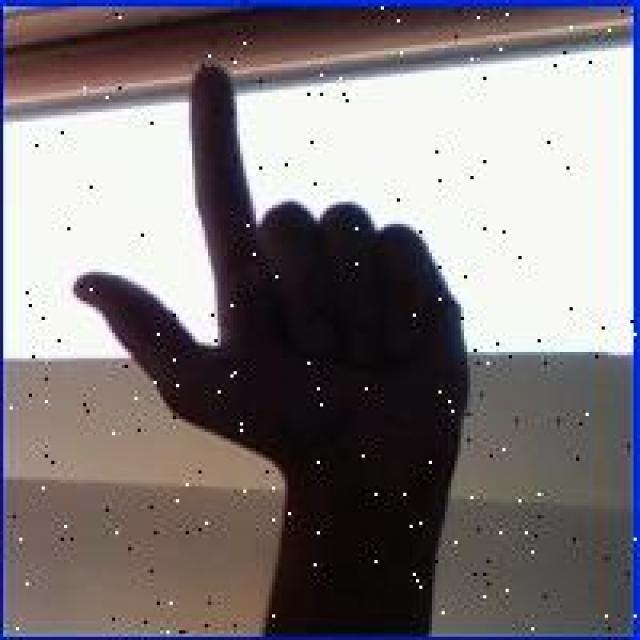L: (72, 59, 478, 523)
